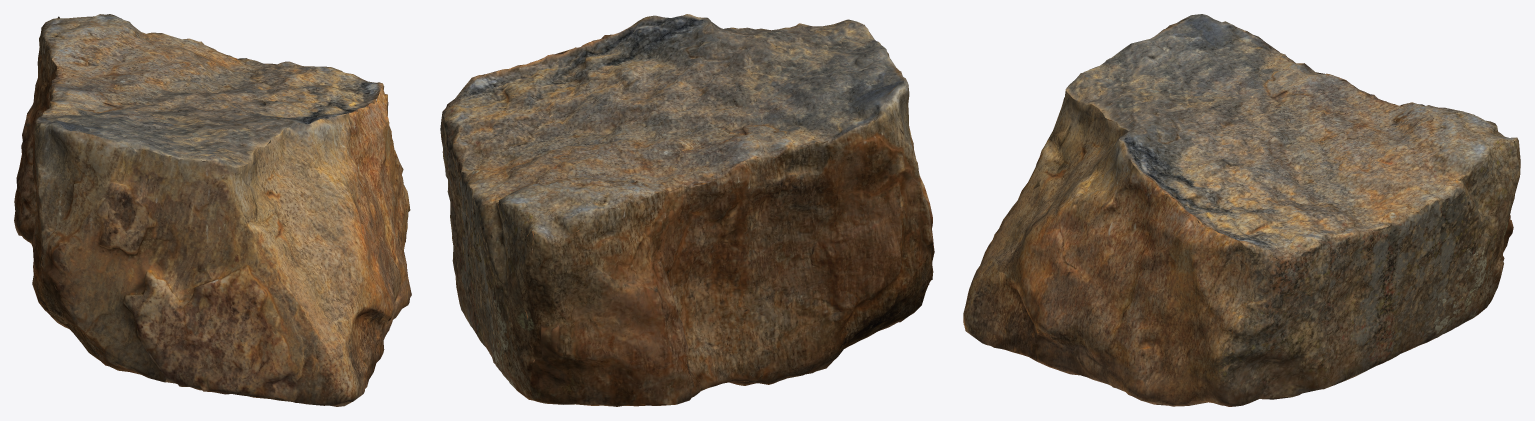
File: namaqualand_boulder_03.fbx
The picture shows the model from 3 angles, left to right: view 1: azimuth 30°, elevation 25°; view 2: azimuth 150°, elevation 25°; view 3: azimuth 270°, elevation 25°; orthographic projection. The views are drawn at different scales.
Visible parts, largest first — view 1: namaqualand_boulder_03; view 2: namaqualand_boulder_03; view 3: namaqualand_boulder_03.
Part boxes in pixels (x1,y1,x2,y2): namaqualand_boulder_03: (14, 14, 411, 406); namaqualand_boulder_03: (440, 14, 934, 406); namaqualand_boulder_03: (963, 14, 1520, 406).
Bounding box in the file's own units: 2.4 × 1.47 × 3.06.
Materials: 1 (1 with a texture image).
